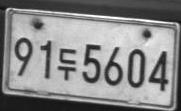0: (126, 47, 146, 88)
1: (35, 39, 56, 79)
4: (147, 49, 169, 91)
5: (81, 43, 102, 84)
6: (103, 46, 123, 86)
9: (12, 36, 33, 76)
두: (57, 47, 76, 81)
